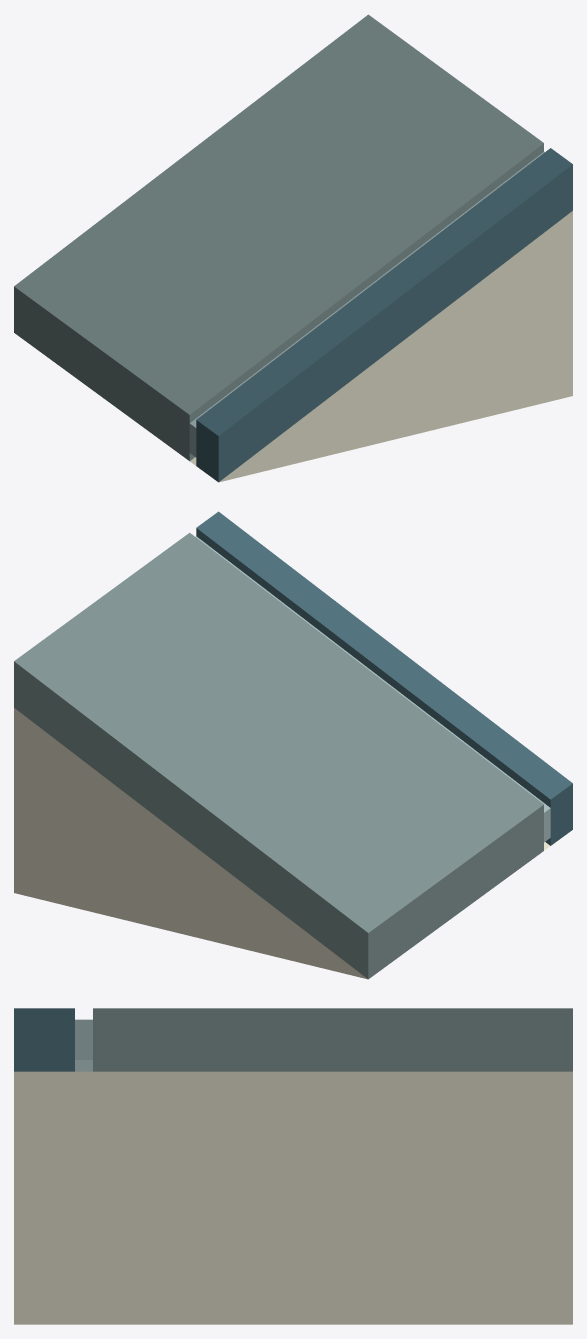
Rendered from FloorBlock-SlopeStart.002.fbx.
The picture shows the model from 3 angles, top to bottom: view 1: azimuth 30°, elevation 25°; view 2: azimuth 150°, elevation 25°; view 3: azimuth 270°, elevation 25°; orthographic projection. The views are drawn at different scales.
Parts seen in each view (by area): view 1: FloorBlock-SlopeStart.002; view 2: FloorBlock-SlopeStart.002; view 3: FloorBlock-SlopeStart.002.
Part boxes in pixels (x1,y1,x2,y2): FloorBlock-SlopeStart.002: [14, 14, 572, 482]; FloorBlock-SlopeStart.002: [14, 511, 572, 979]; FloorBlock-SlopeStart.002: [14, 1008, 572, 1324].
Size of the model in its own units: 800 by 500 by 800.
